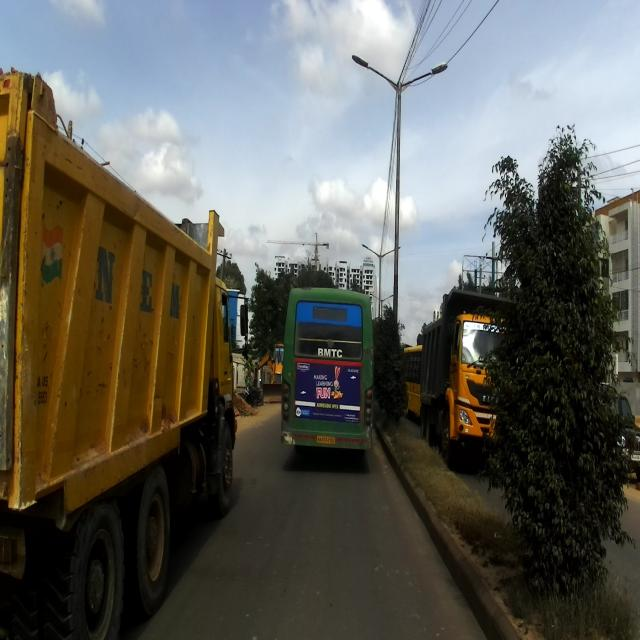bus: (280, 280, 372, 456)
truck: (0, 59, 251, 638), (419, 289, 528, 461)
